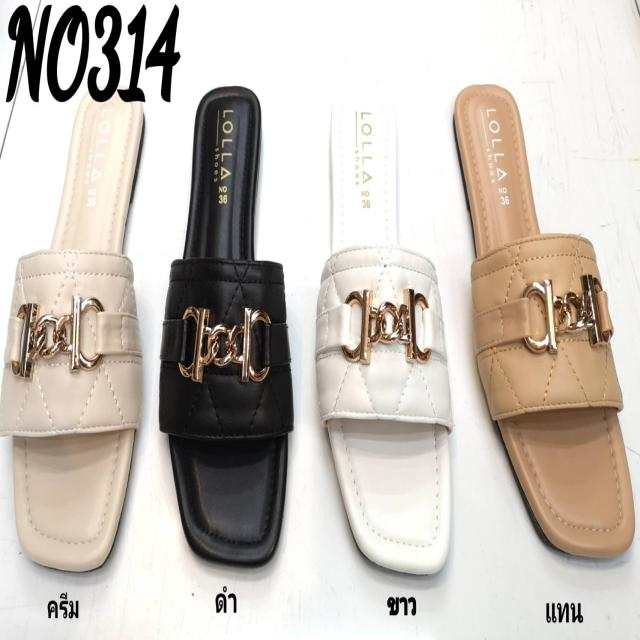black: (157, 85, 290, 558)
cream: (17, 92, 142, 572)
tan: (456, 82, 636, 569)
white: (324, 90, 454, 569)
